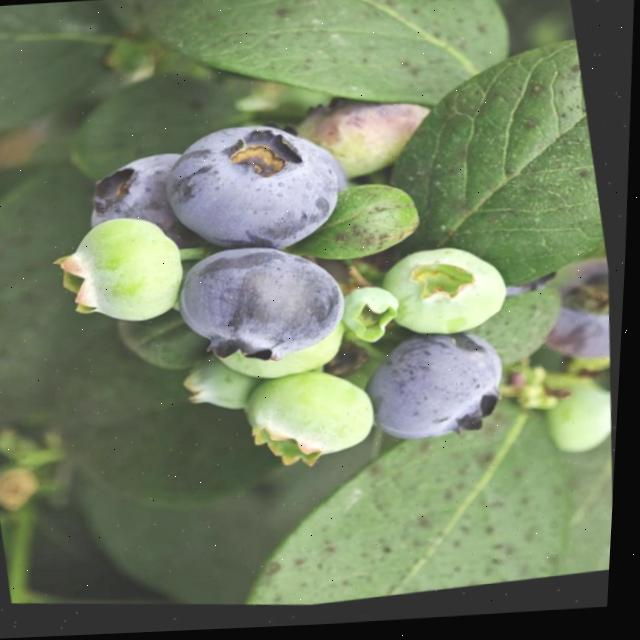RipeBlueBerry: (163, 113, 359, 272), (186, 237, 362, 386)
UnripeBlueBerry: (55, 215, 202, 342), (245, 367, 392, 488), (386, 241, 526, 353)
